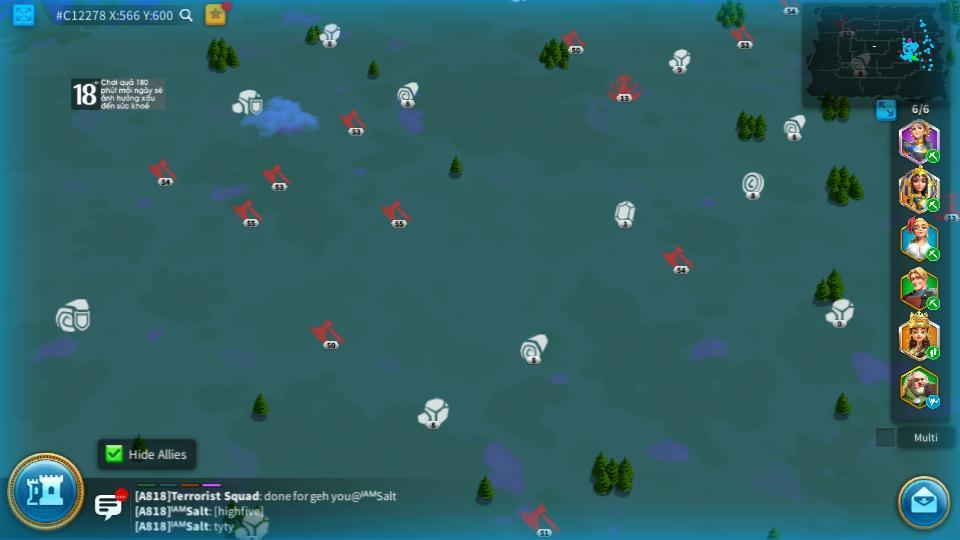gem-z-out: (613, 201, 635, 227)
march_farming: (925, 197, 941, 212), (925, 297, 941, 310), (924, 248, 939, 260)
march_idle: (925, 396, 942, 408)
march_marching: (925, 345, 941, 359), (925, 150, 941, 162)
